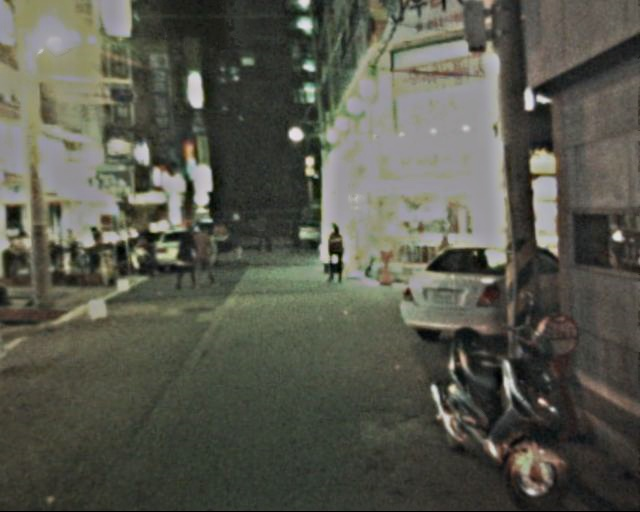person: (186, 223, 219, 291), (318, 220, 348, 284), (168, 224, 196, 288), (224, 209, 249, 258), (251, 210, 272, 255), (282, 216, 301, 254)
